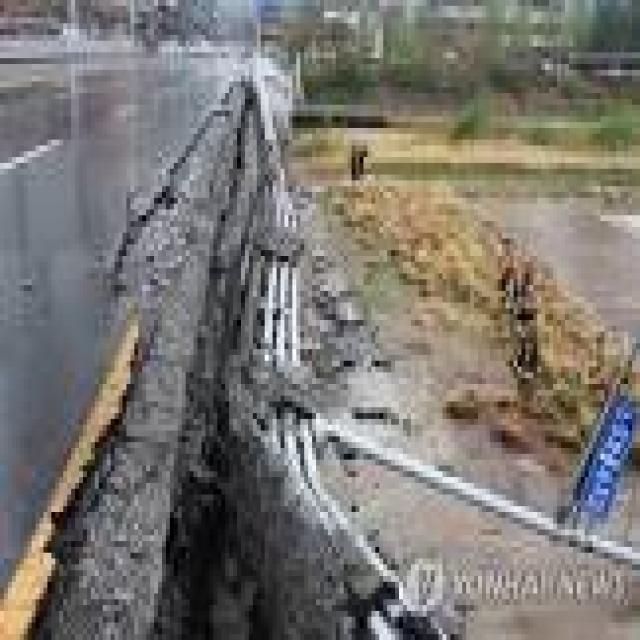bridge collapse: (21, 0, 568, 640)
